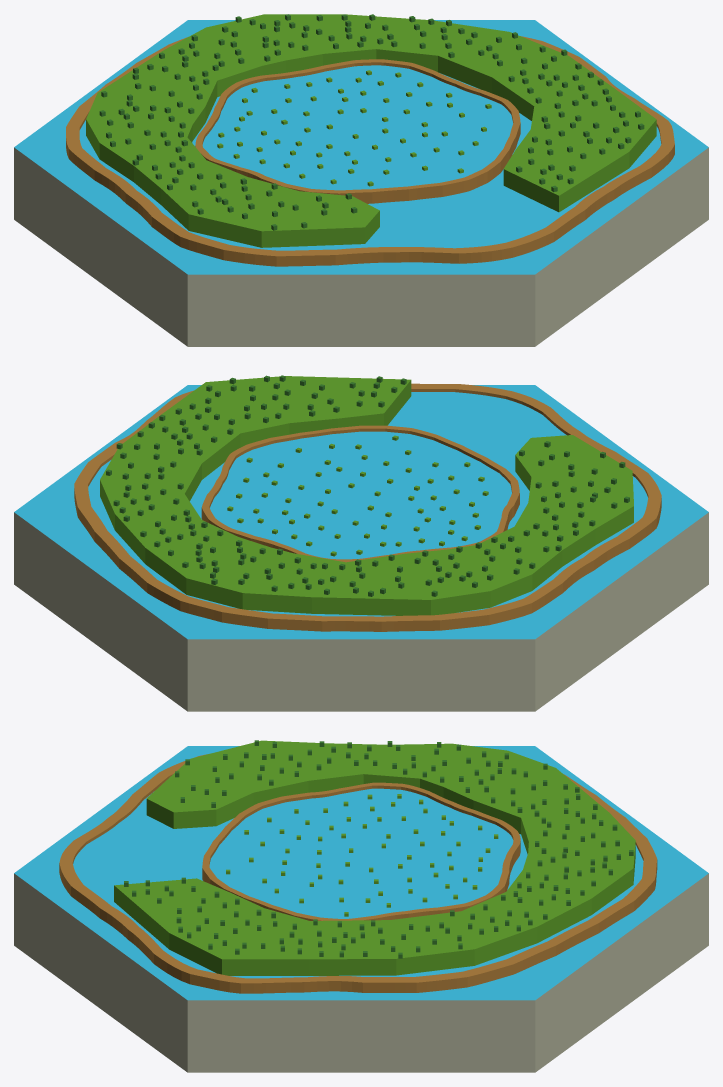
The model's file is Tuile_Eau_Champs_Niv3.fbx.
The picture shows the model from 3 angles, top to bottom: view 1: azimuth 30°, elevation 25°; view 2: azimuth 150°, elevation 25°; view 3: azimuth 270°, elevation 25°; orthographic projection.
Visible parts, largest first — view 1: Level 3, Tuile, Bord, Eau; view 2: Level 3, Tuile, Bord, Eau; view 3: Level 3, Tuile, Bord, Eau.
Part boxes in pixels (<box>): Level 3: <box>86,14,656,247</box>; Tuile: <box>14,20,708,346</box>; Bord: <box>66,36,674,266</box>; Eau: <box>79,73,661,250</box>; Level 3: <box>100,375,633,615</box>; Tuile: <box>14,385,708,711</box>; Bord: <box>74,383,661,631</box>; Eau: <box>88,392,647,616</box>; Level 3: <box>114,740,635,975</box>; Tuile: <box>14,746,708,1072</box>; Bord: <box>59,754,657,993</box>; Eau: <box>73,792,643,978</box>.
Bounding box in the file's own units: 107 × 19.73 × 124.
